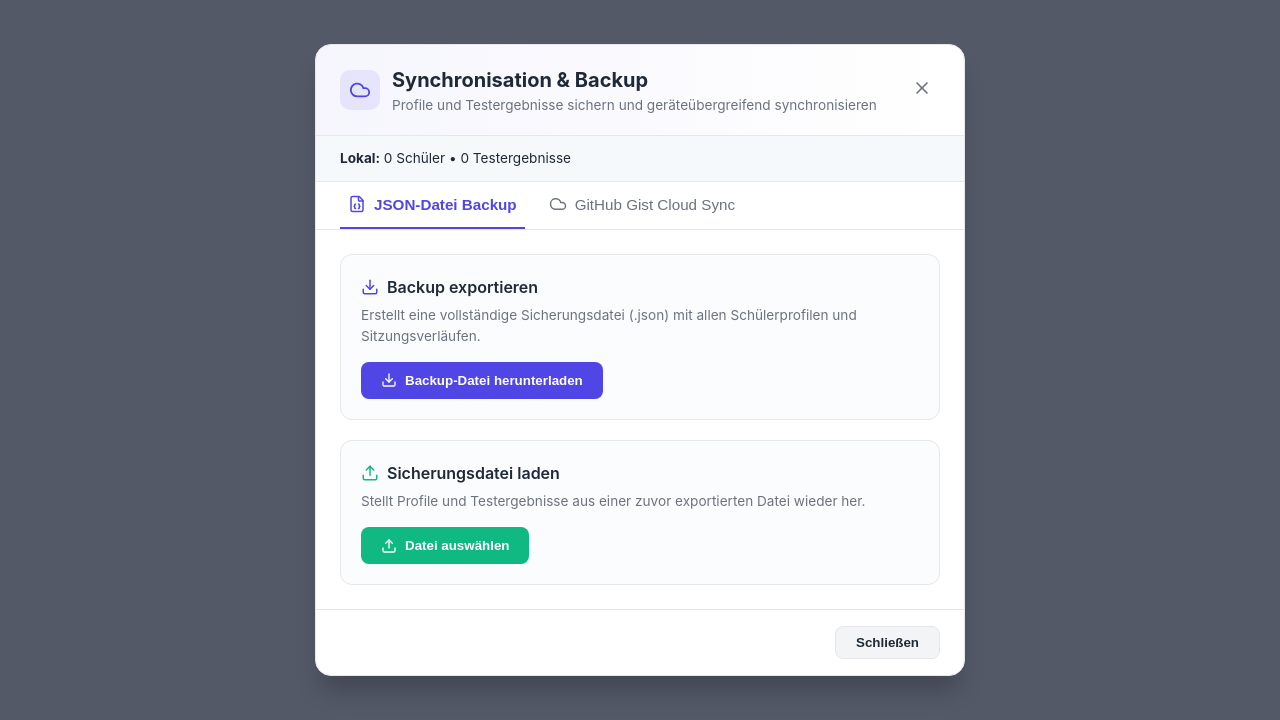
it: SyncBackupModal Component (Tier 3: UI & Accessibility) › 4. JSON File Export Section › handles export failure gracefully when downloadBackupFile returns false
Click the button "Backup-Datei herunterladen" at (482, 380), box [361, 362, 603, 399]
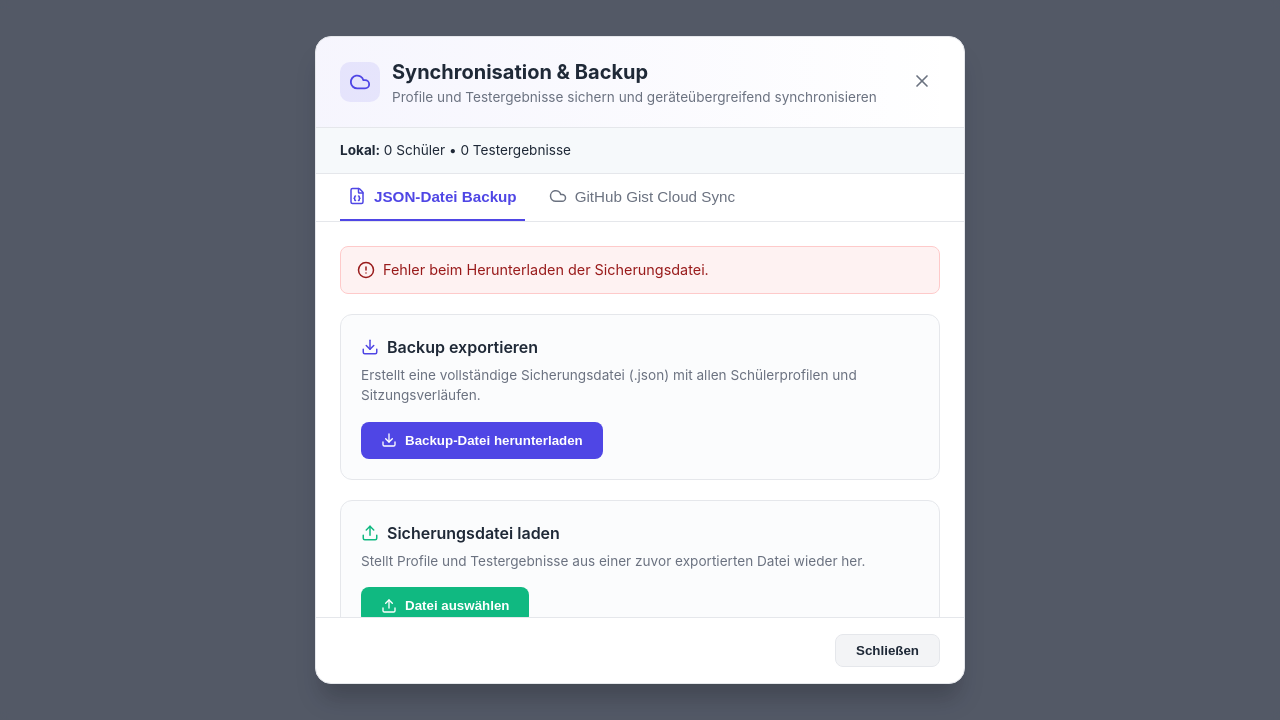
expect the text "Fehler beim Herunterladen der Sicherungsdatei." is shown: met, box [383, 259, 709, 281]
